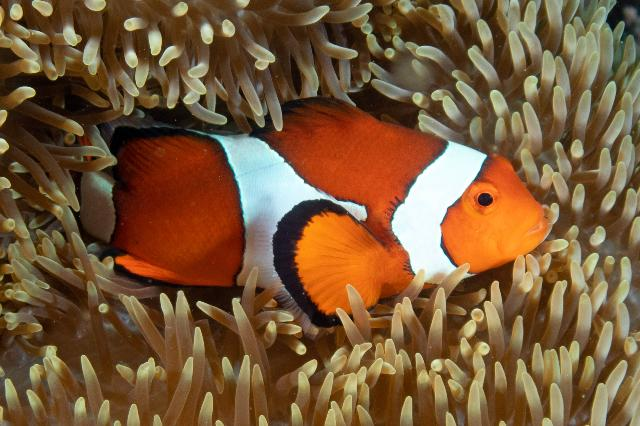Mulut: (510, 188, 570, 260)
Sirip Anal: (81, 236, 185, 304)
Sirip Dada: (244, 177, 402, 344)
Sirip Punggung: (84, 69, 366, 179)
